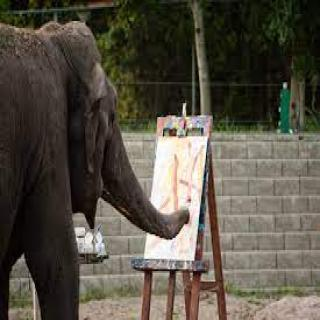Elephant: (0, 14, 191, 316)
